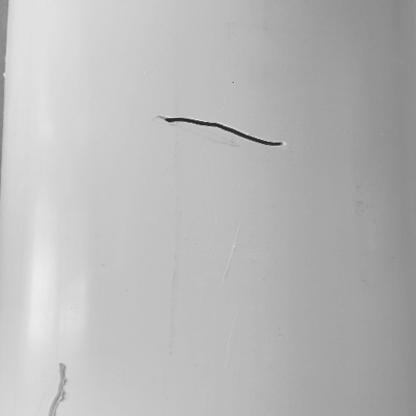fengxi: (158, 115, 285, 148)
sunshang: (43, 361, 71, 416)
